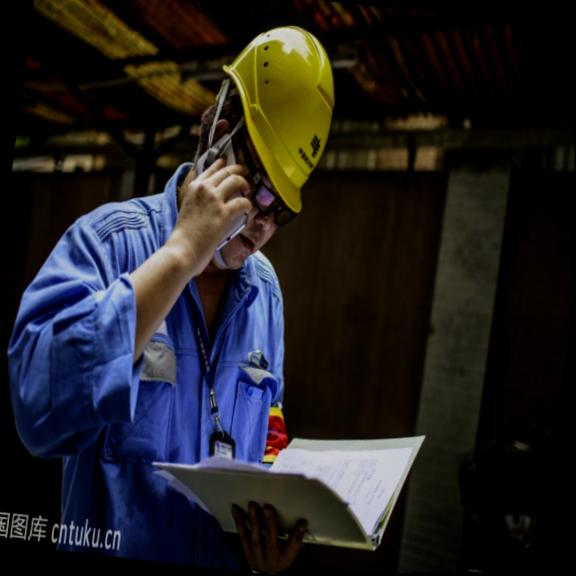no_safety_vest: (70, 205, 292, 530)
